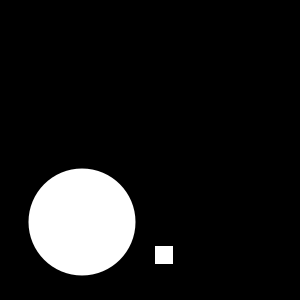circle: (155, 246, 173, 264)
rectangle: (28, 168, 136, 276)
